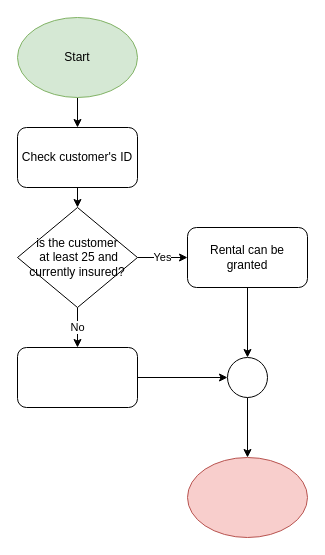
This 325x555 diagram has some shape labels left out. The box of each missing label's shape, as (x1, y1, x2, y2) in pixels:
End: (186, 456, 308, 538)
Rental cannot be granted: (16, 346, 138, 408)
